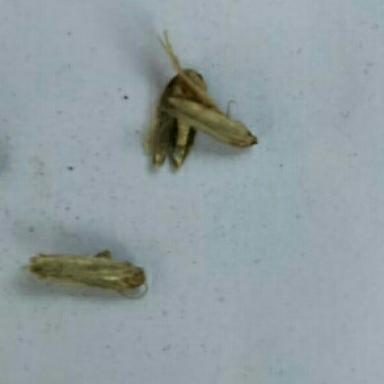pbw: (147, 27, 258, 146), (18, 248, 149, 300), (150, 68, 205, 168)
